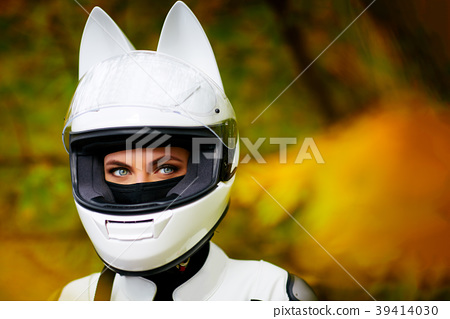helmet: (65, 45, 246, 256)
